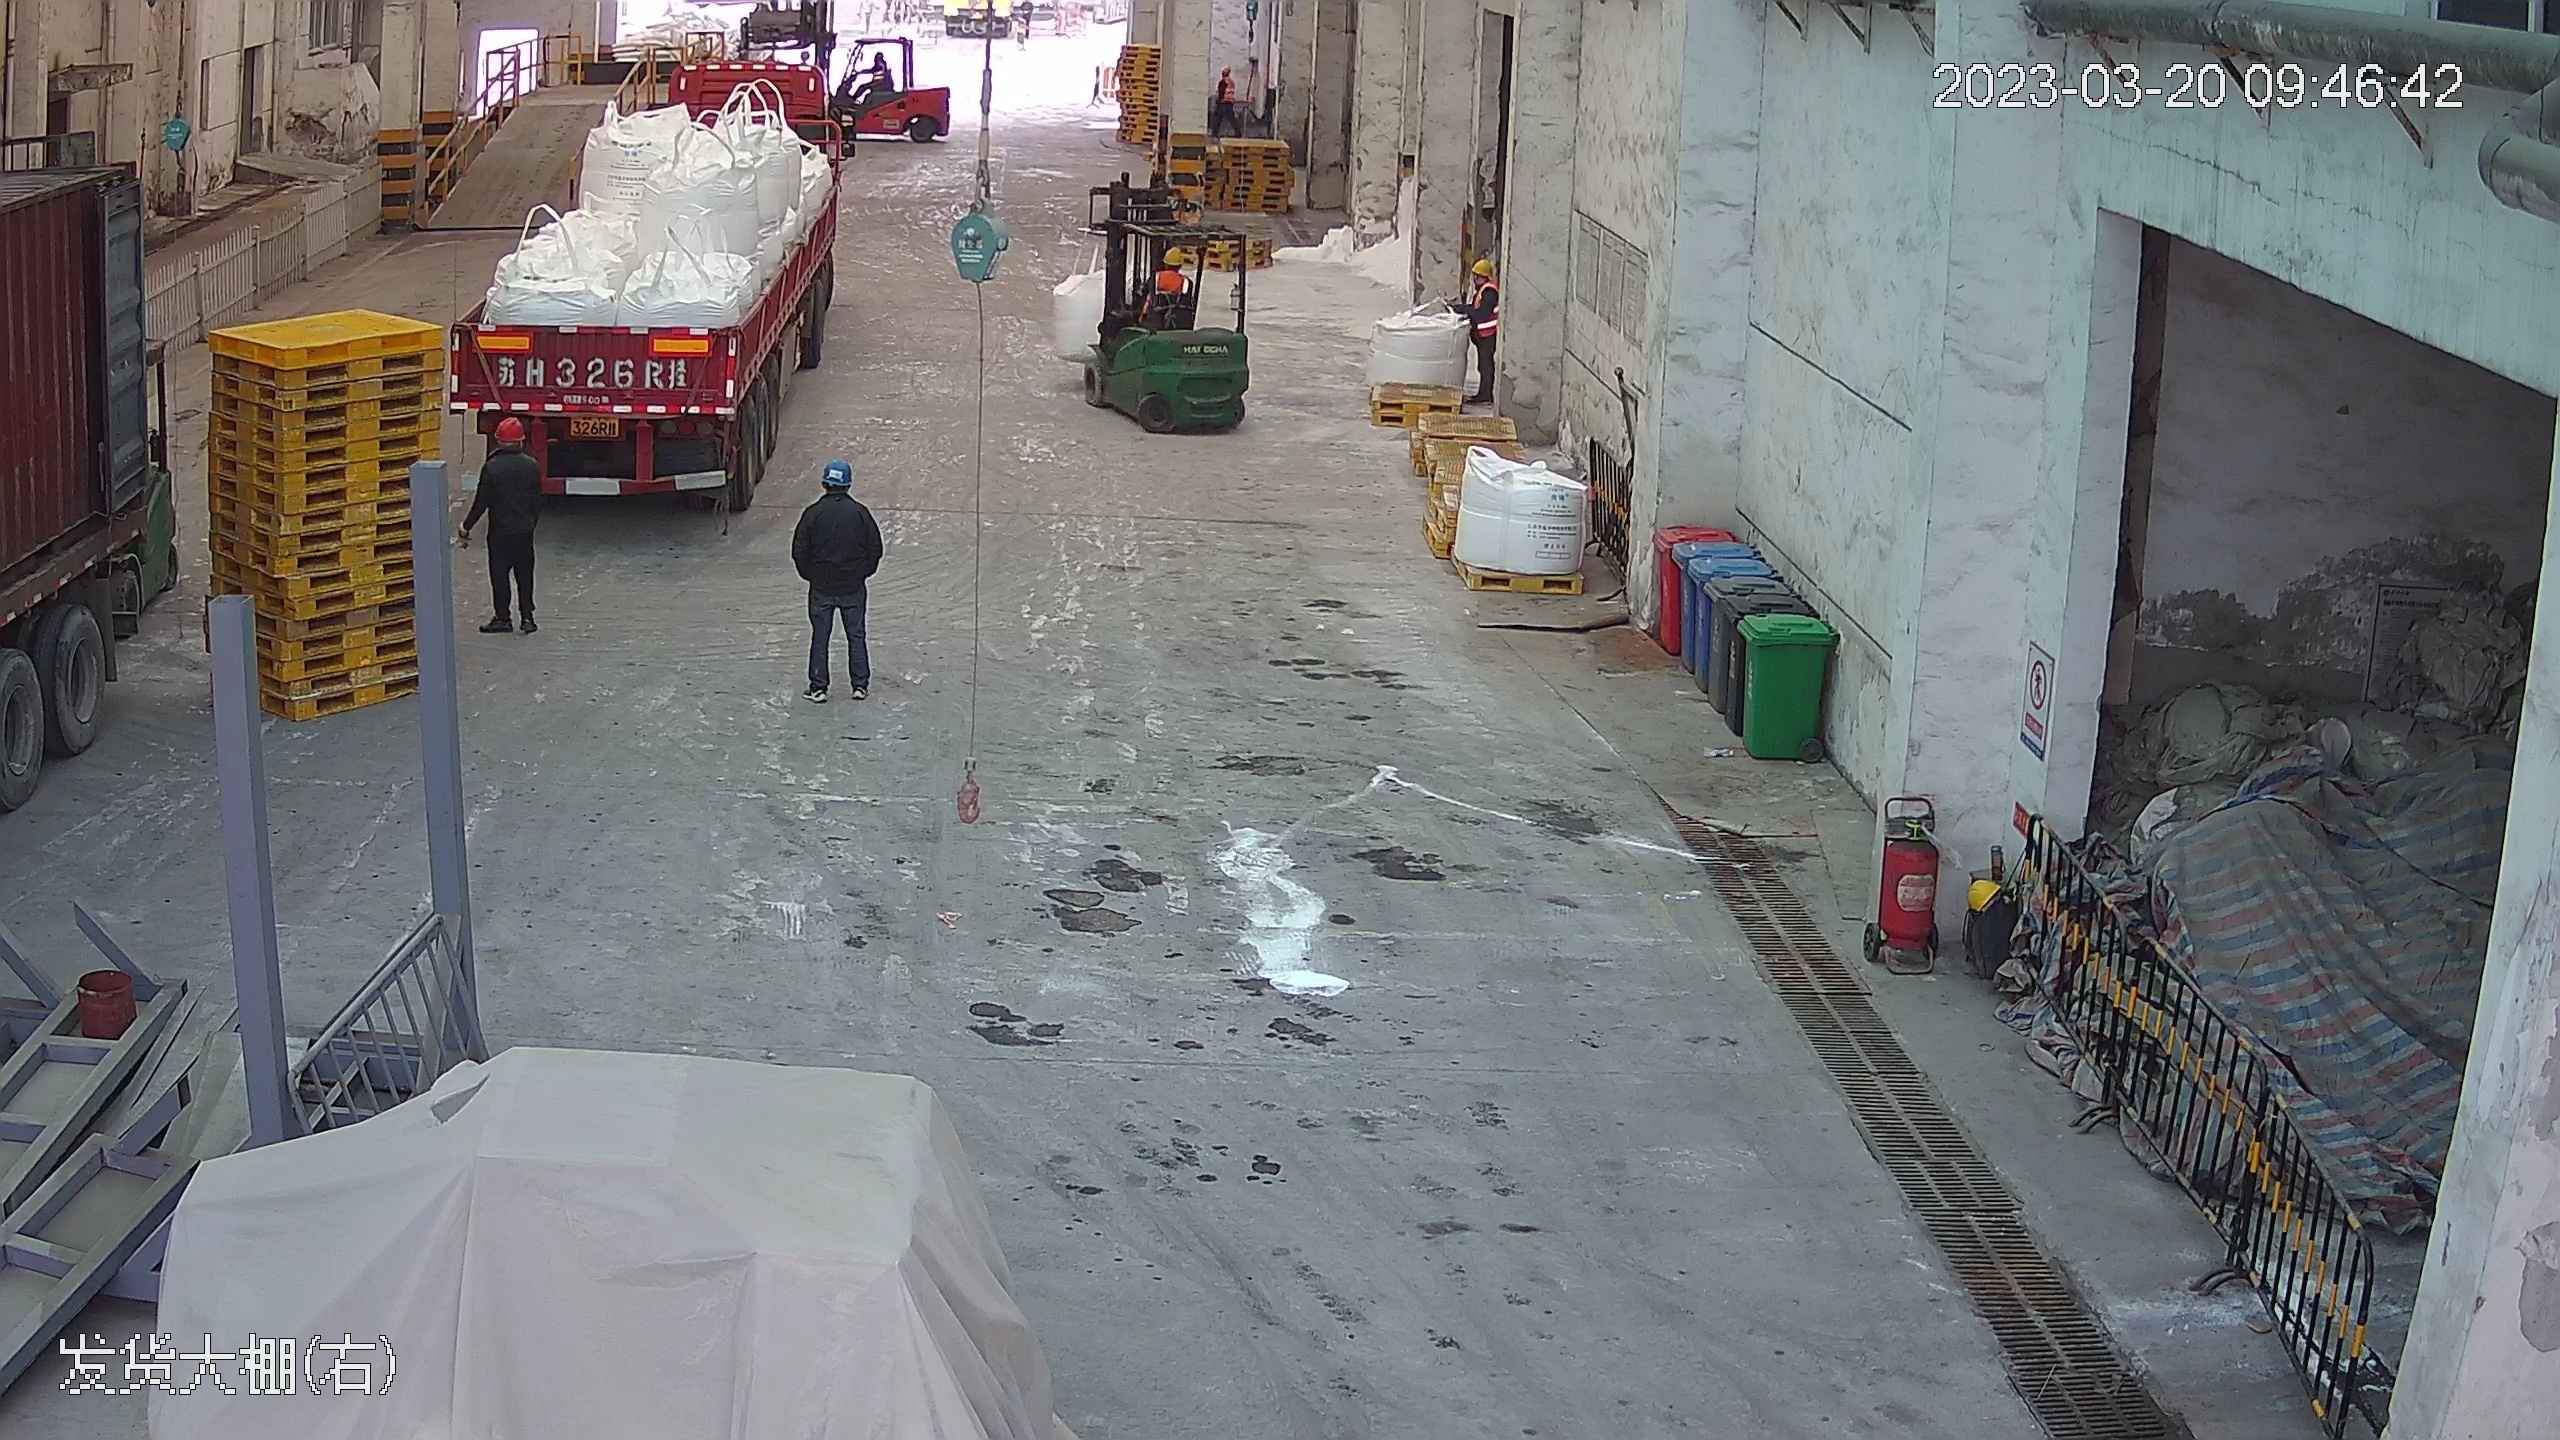head: (798, 453, 877, 526), (474, 413, 538, 485), (1457, 254, 1504, 306), (1149, 246, 1191, 290), (1217, 63, 1234, 90)
helmet: (488, 413, 524, 441), (820, 452, 853, 480), (1159, 241, 1191, 264), (1470, 253, 1494, 274), (1221, 65, 1232, 74)
people: (791, 447, 892, 706), (465, 411, 548, 639), (1450, 251, 1508, 405), (1212, 61, 1244, 139), (850, 49, 887, 95)
truck: (452, 12, 851, 521), (1, 151, 149, 865)
